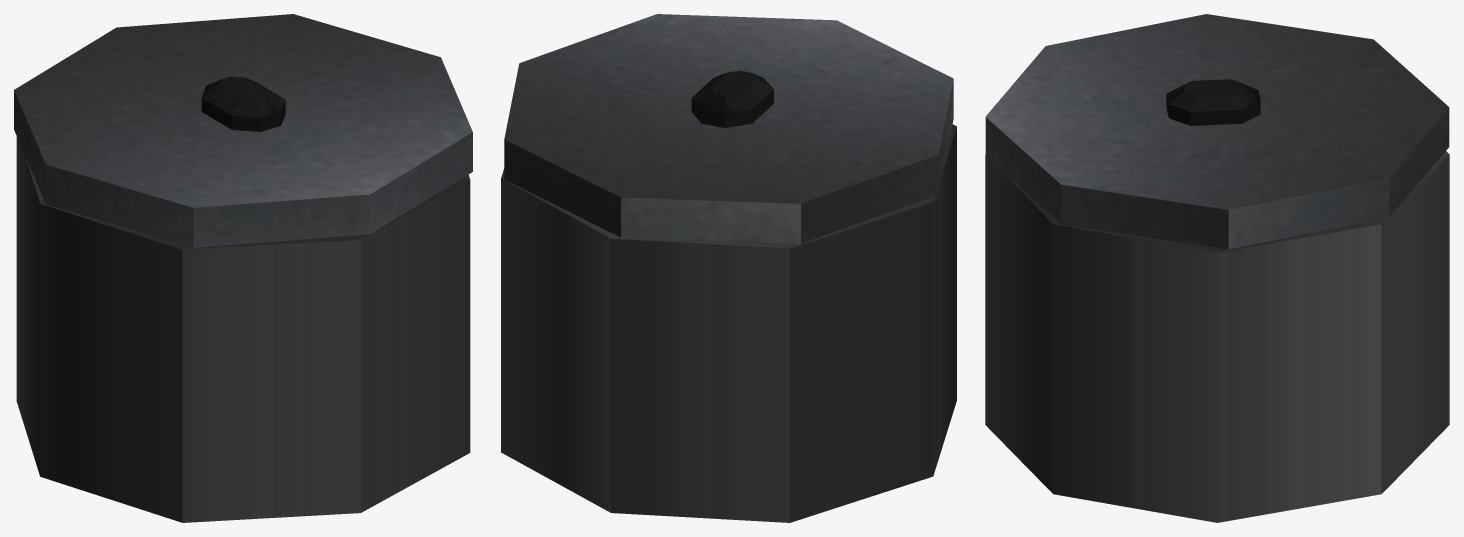
3 renders of one model, left to right at view 1: azimuth 30°, elevation 25°; view 2: azimuth 150°, elevation 25°; view 3: azimuth 270°, elevation 25°, orthographic.
Parts seen in each view (by area): view 1: Cylinder001, Object001, Box001; view 2: Cylinder001, Object001, Box001; view 3: Cylinder001, Object001, Box001.
Part boxes in pixels (<box>): Cylinder001: <box>16,136,470,522</box>; Object001: <box>14,14,472,247</box>; Box001: <box>201,76,285,131</box>; Cylinder001: <box>501,124,956,522</box>; Object001: <box>504,14,953,243</box>; Box001: <box>691,70,773,127</box>; Cylinder001: <box>985,151,1449,522</box>; Object001: <box>985,14,1449,249</box>; Box001: <box>1166,79,1260,125</box>.
Bounding box in the file's own units: 67.5 × 54.07 × 67.5.
3 materials, 3 textured.
